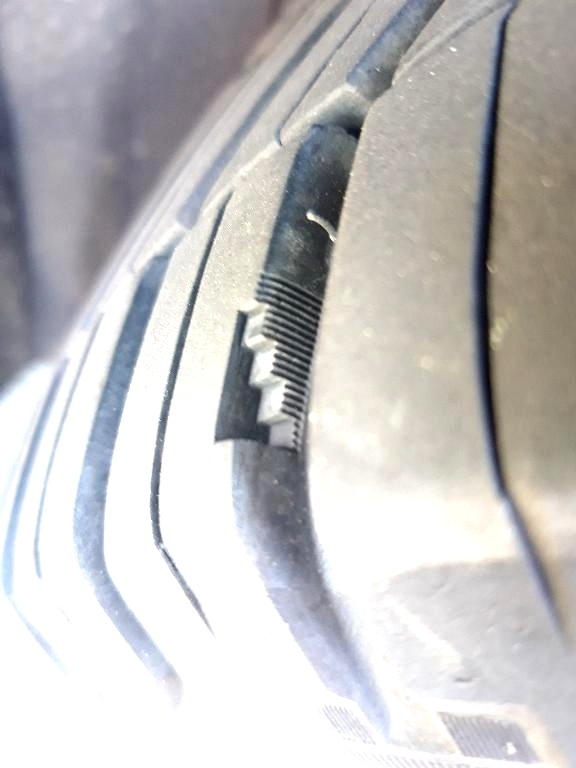temoin:90: (205, 264, 330, 461)
